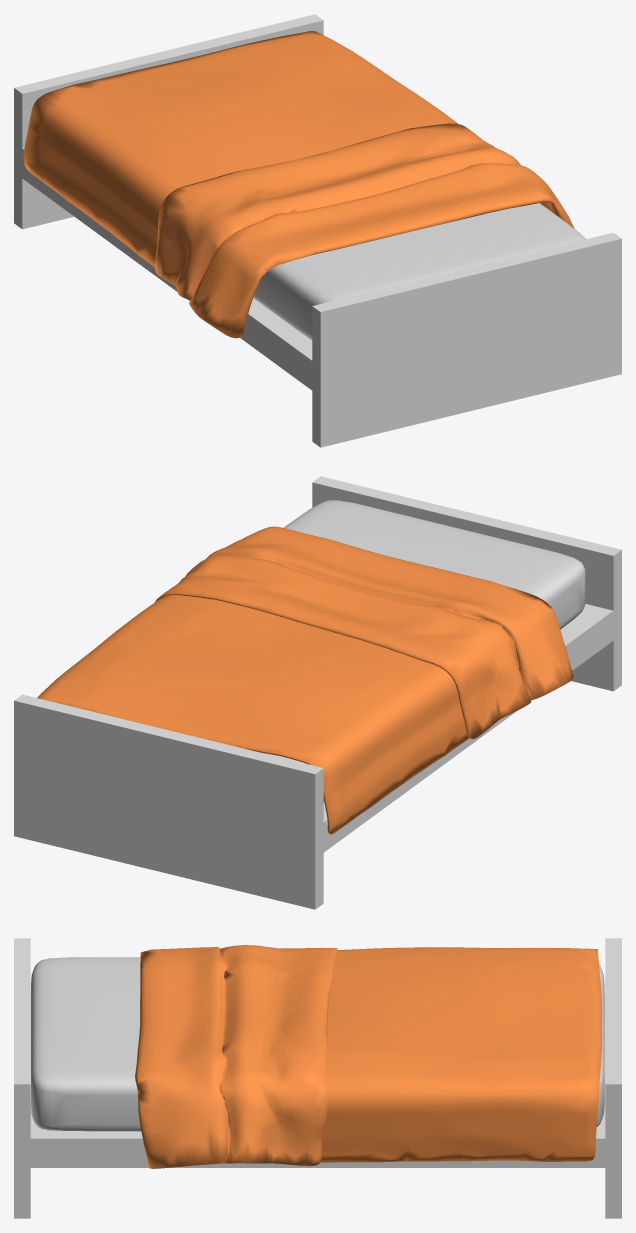
Rendered from Cama.fbx.
3 views of the same model, one above another, from view 1: azimuth 30°, elevation 25°; view 2: azimuth 150°, elevation 25°; view 3: azimuth 270°, elevation 25° (orthographic).
Visible parts, largest first — view 1: Manta, Cama, Colchón; view 2: Manta, Cama, Colchón; view 3: Manta, Colchón, Cama.
Part boxes in pixels (x1=…): Manta: x1=23, y1=31, x2=574, y2=338; Cama: x1=14, y1=14, x2=621, y2=447; Colchón: x1=253, y1=203, x2=585, y2=340; Manta: x1=37, y1=526, x2=573, y2=834; Cama: x1=14, y1=476, x2=621, y2=909; Colchón: x1=264, y1=500, x2=585, y2=802; Manta: x1=135, y1=945, x2=601, y2=1168; Colchón: x1=31, y1=957, x2=604, y2=1131; Cama: x1=14, y1=938, x2=621, y2=1218.
Size of the model in its own units: 23.22 by 8.75 by 32.86.
